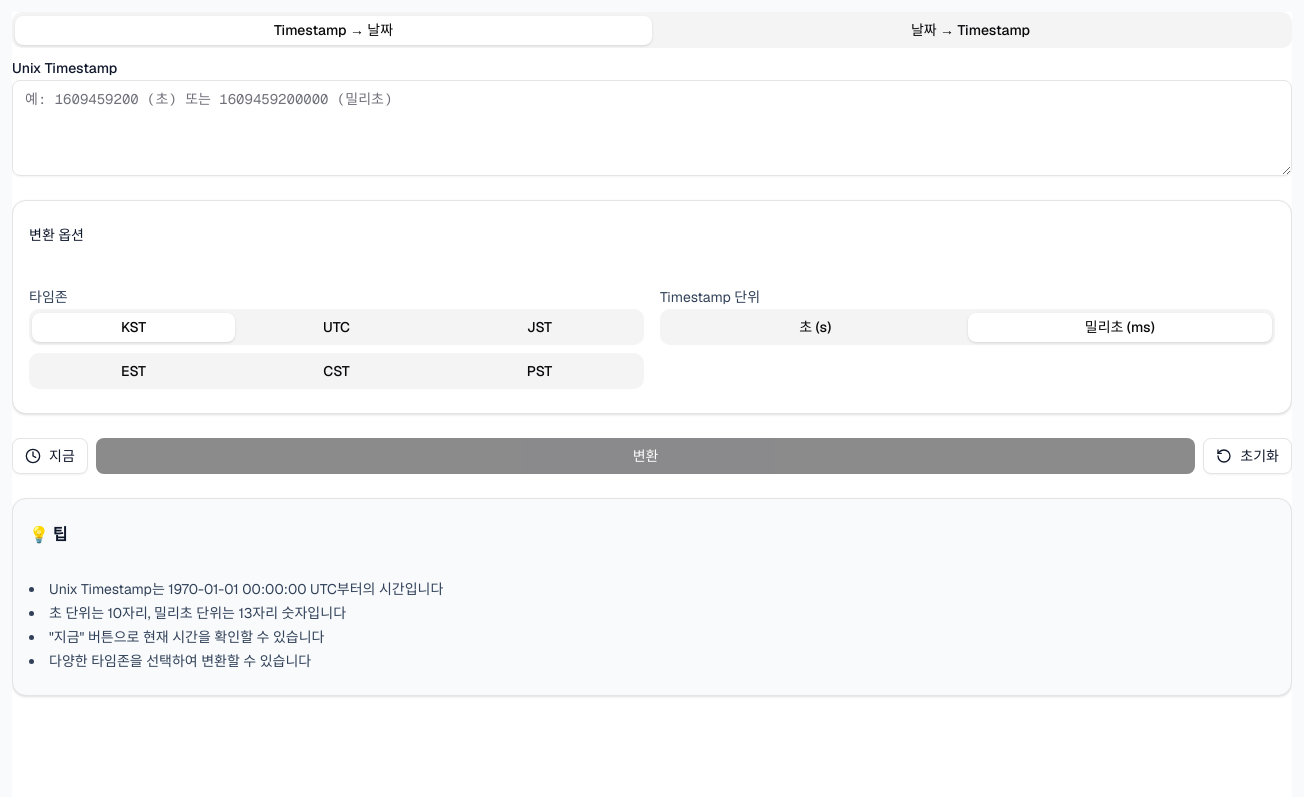
Test case: TimestampConverter Component › 날짜 → Timestamp 변환 테스트 › 날짜 입력 후 변환 버튼 클릭
// 날짜 → Timestamp 모드로 전환
Click the tab "날짜 → Timestamp": (970, 30) [652, 16, 1289, 44]
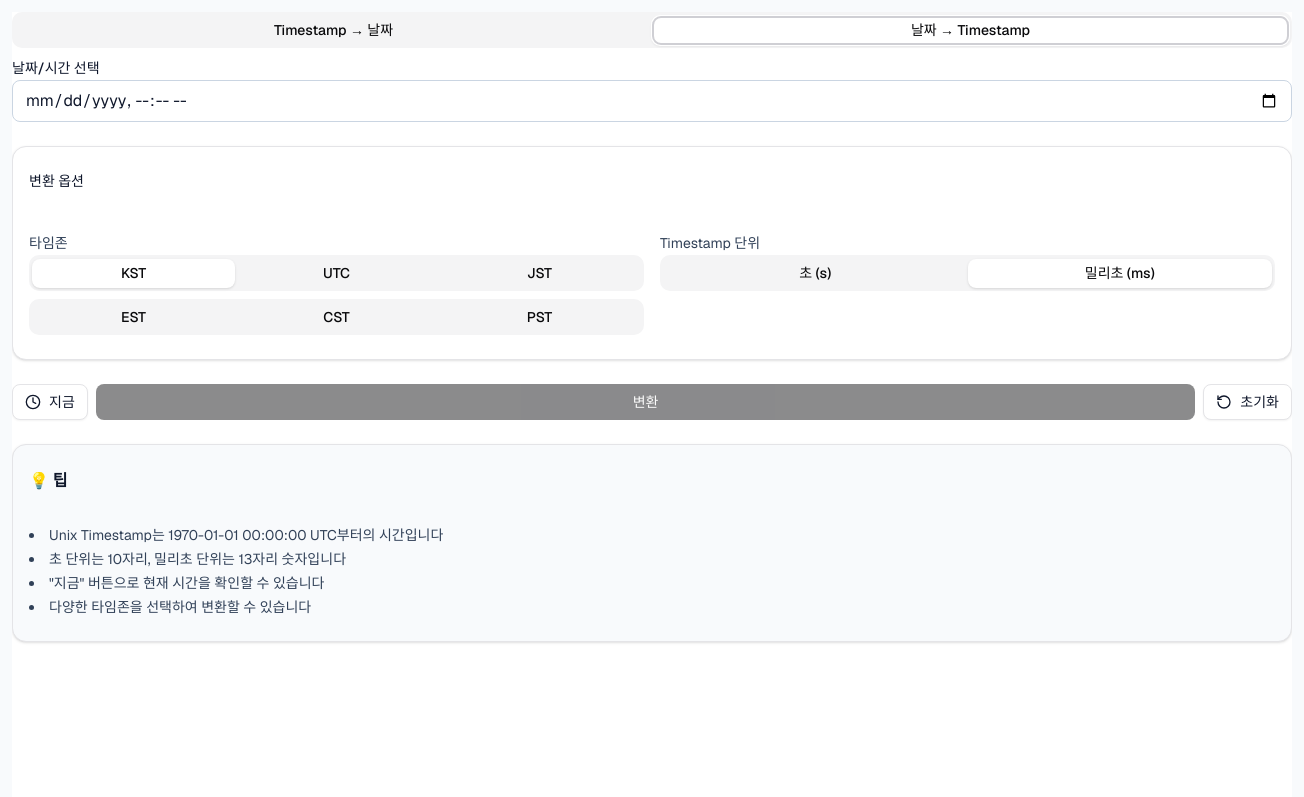
In the field labelled "날짜/시간 선택": (652, 101) [12, 80, 1292, 122], type "2021-01-01T09:00"
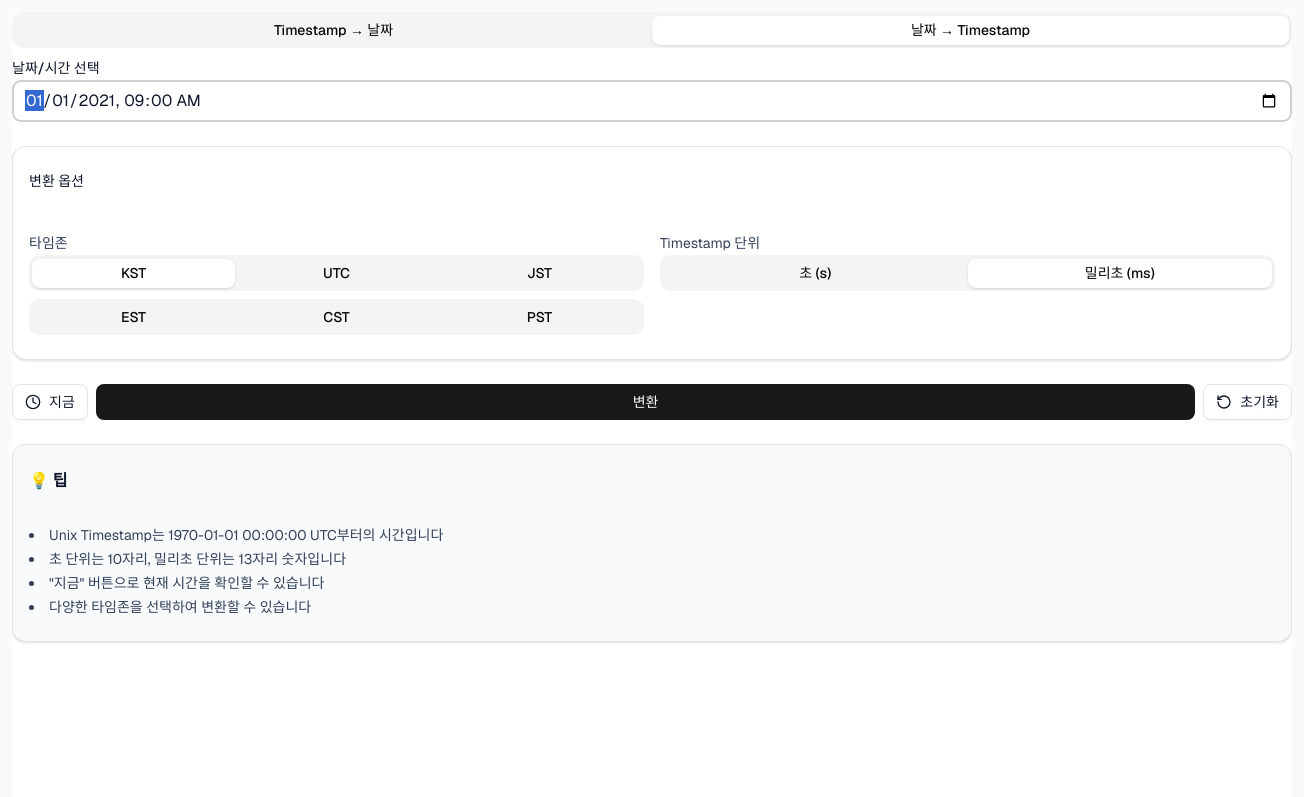
Click the button "변환": (646, 402) [96, 384, 1195, 420]
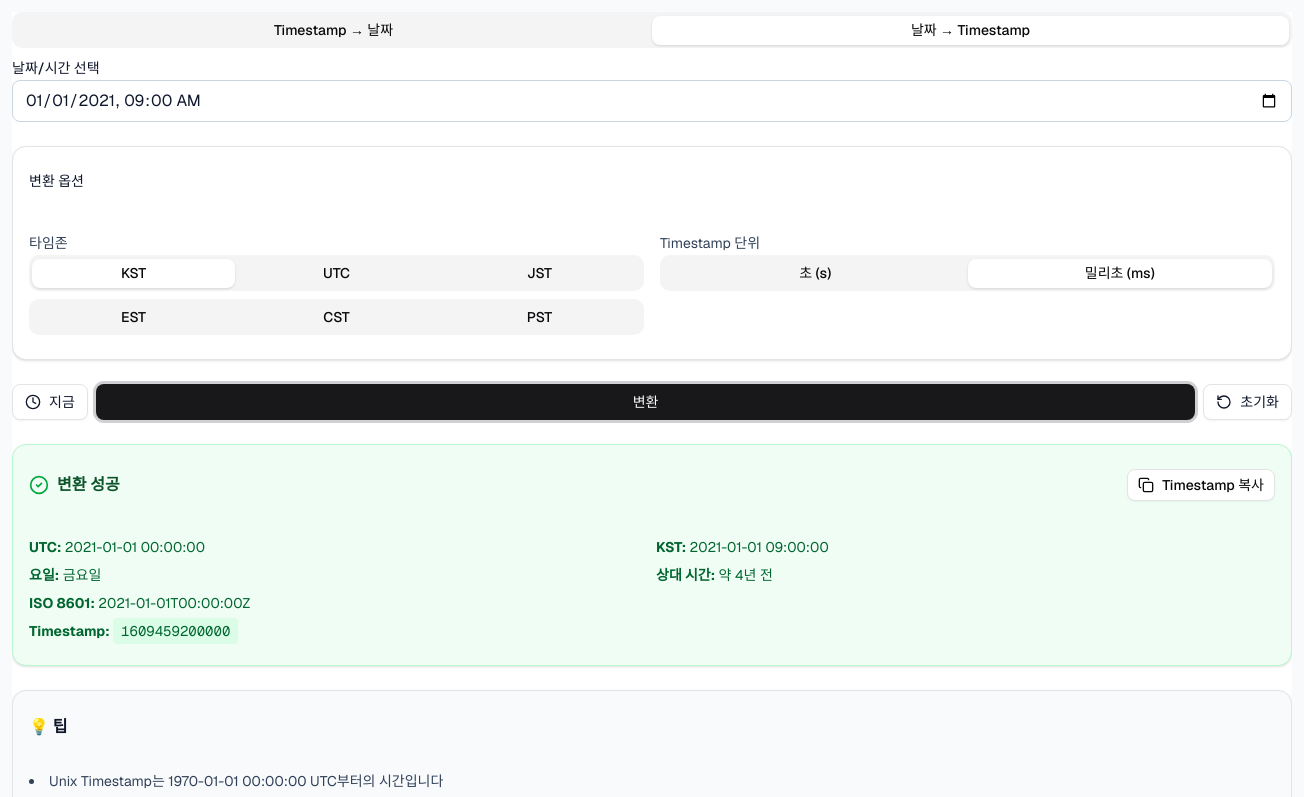
Check: the heading "변환 성공" is shown, box [57, 473, 120, 497]
